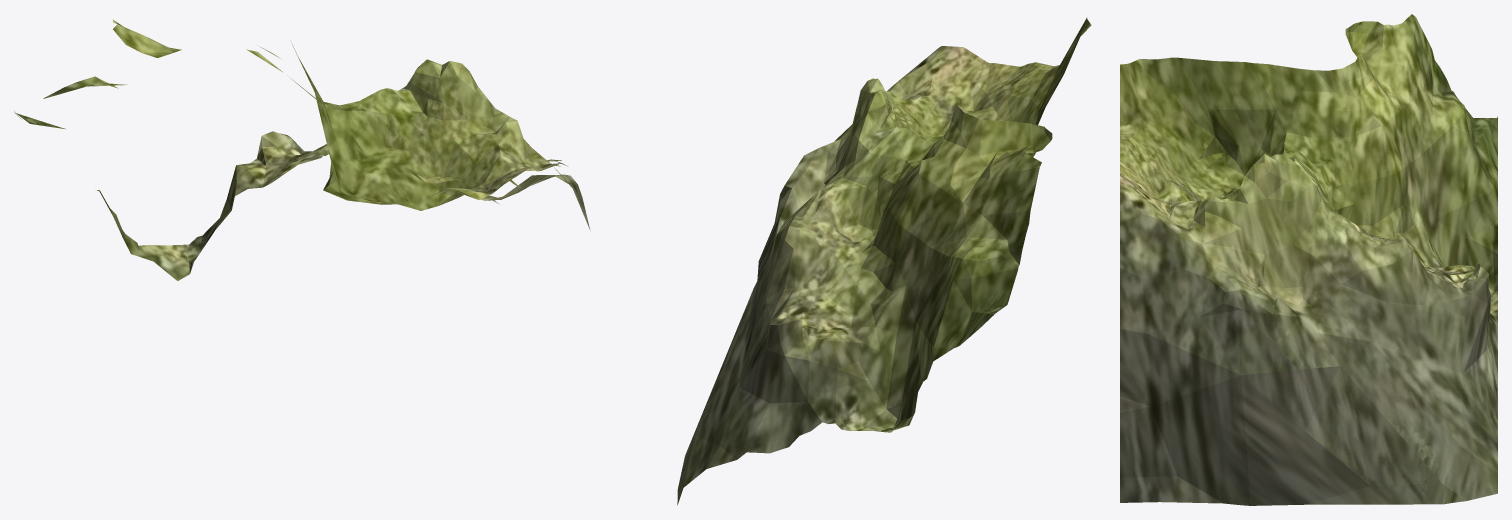
3 views of the same model, side by side, from view 1: azimuth 30°, elevation 25°; view 2: azimuth 150°, elevation 25°; view 3: azimuth 270°, elevation 25° (orthographic). The views are drawn at different scales.
Size of the model in its own units: 2.84 by 2.95 by 2.95.
4 materials, 4 textured.
